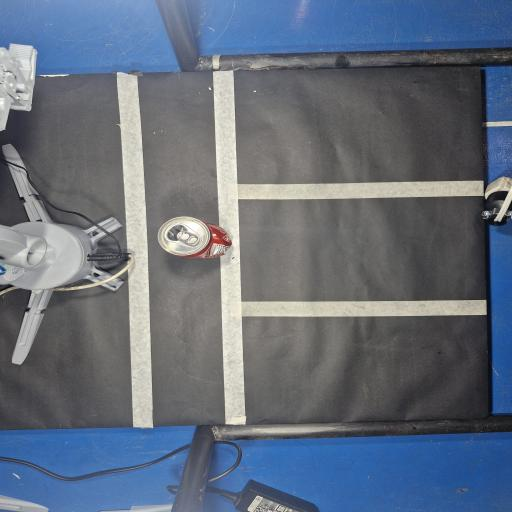lata_defectuoso: (158, 217, 232, 258)
